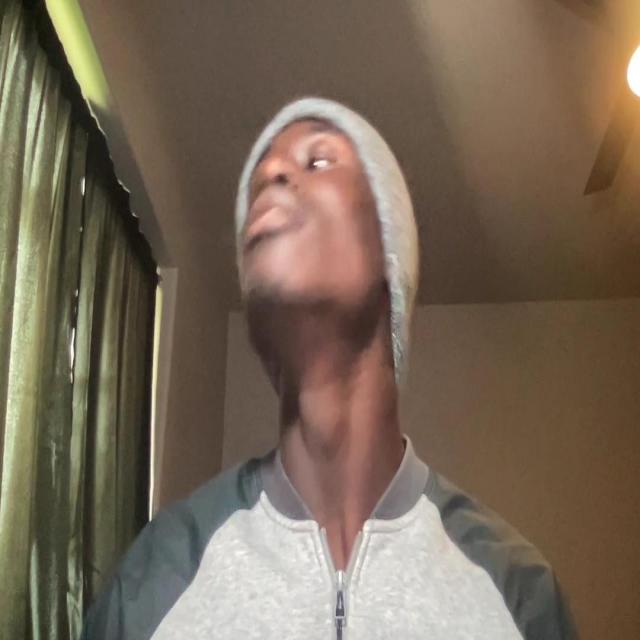face: (224, 101, 413, 336)
